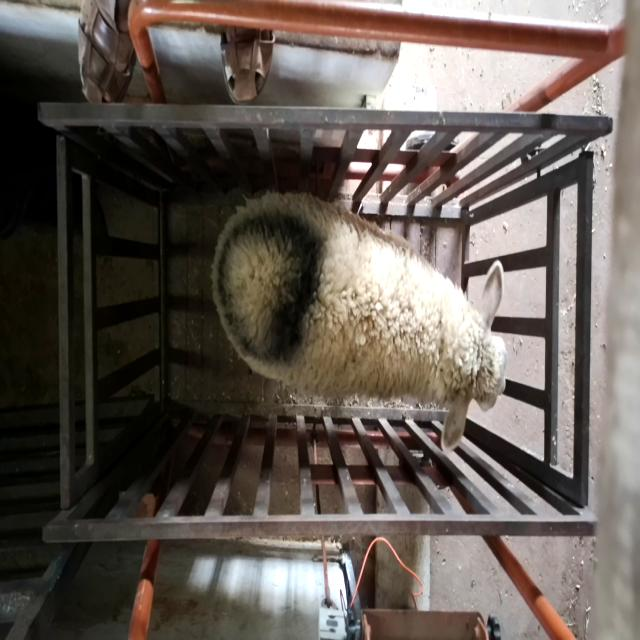sheep: (211, 192, 507, 453)
